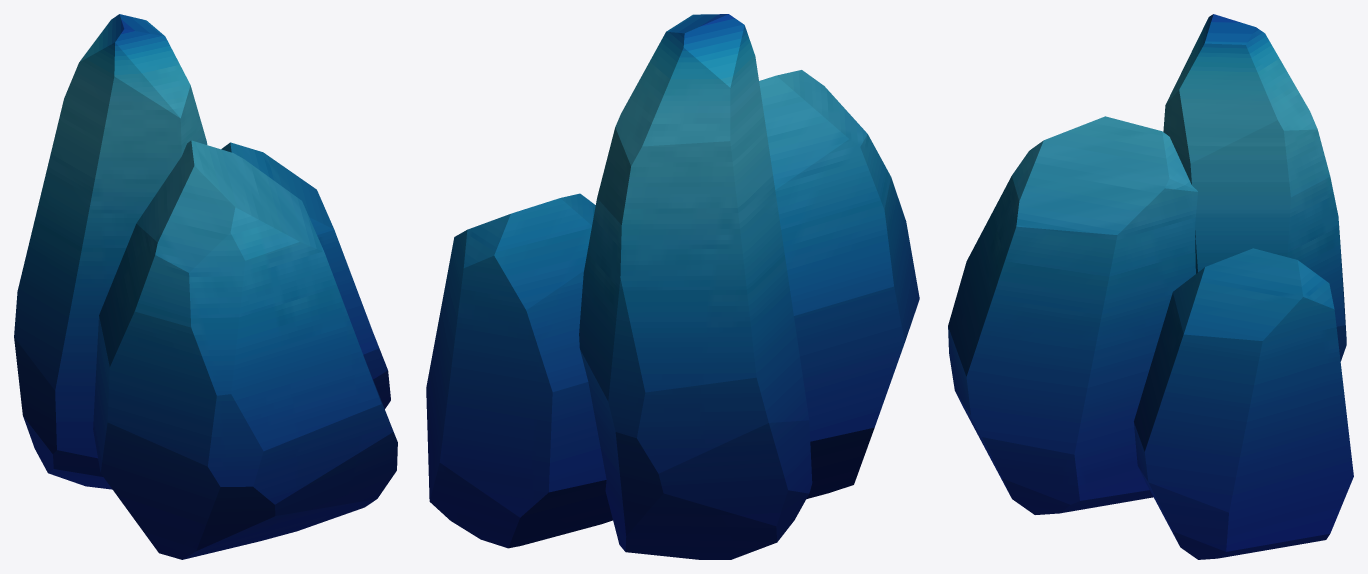
The model's file is rocaesmeralda_01.fbx.
The picture shows the model from 3 angles, left to right: view 1: azimuth 30°, elevation 25°; view 2: azimuth 150°, elevation 25°; view 3: azimuth 270°, elevation 25°; orthographic projection. The views are drawn at different scales.
Visible parts, largest first — view 1: cueva01; view 2: cueva01; view 3: cueva01.
Boxes of the visible parts, x1,y1,x2,y2 form: cueva01: [14, 14, 397, 559]; cueva01: [426, 14, 919, 559]; cueva01: [948, 14, 1353, 559].
Bounding box in the file's own units: 887 × 1142 × 930.
Materials: 1 (1 with a texture image).
